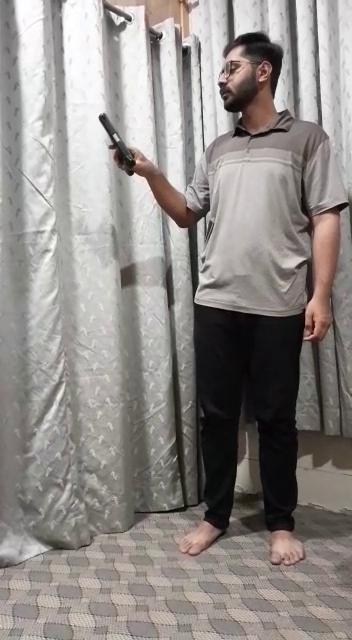criminal: (95, 29, 352, 571)
weapon: (94, 109, 143, 176)
